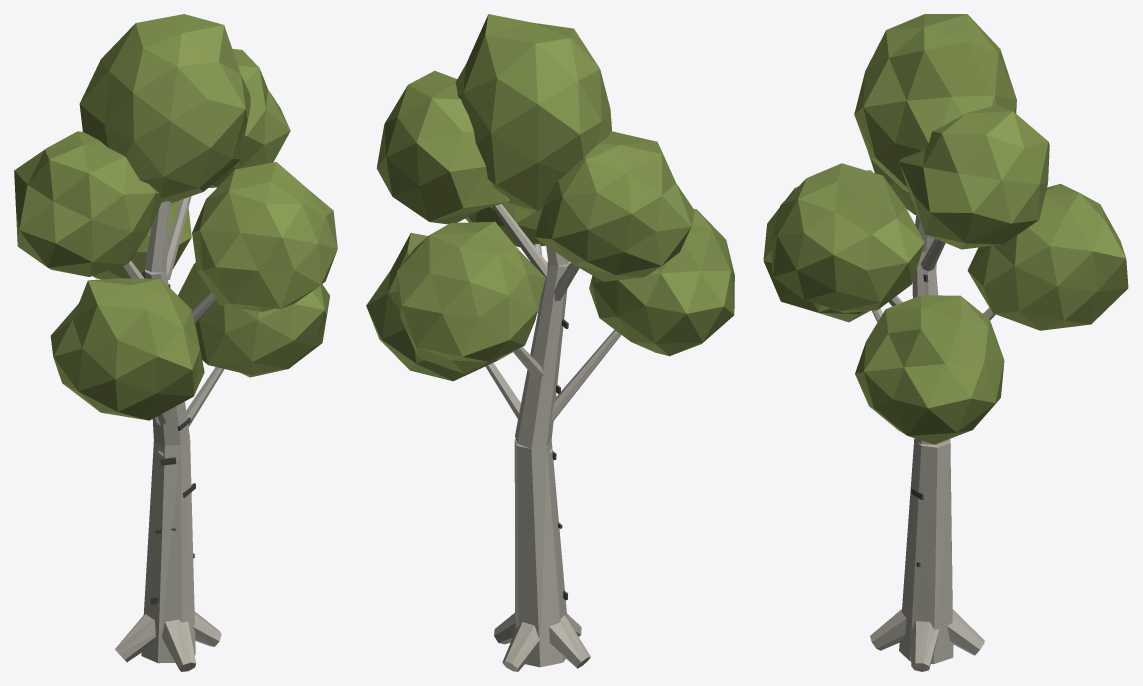
Rendered from birch.glb.
3 views of the same model, side by side, from view 1: azimuth 30°, elevation 25°; view 2: azimuth 150°, elevation 25°; view 3: azimuth 270°, elevation 25° (orthographic).
Parts seen in each view (by area): view 1: birch_tree; view 2: birch_tree; view 3: birch_tree.
Part boxes in pixels (x1,y1,x2,y2): birch_tree: (14,14,337,671); birch_tree: (366,14,734,671); birch_tree: (763,14,1128,671).
Size of the model in its own units: 3.84 by 7.33 by 3.84.
